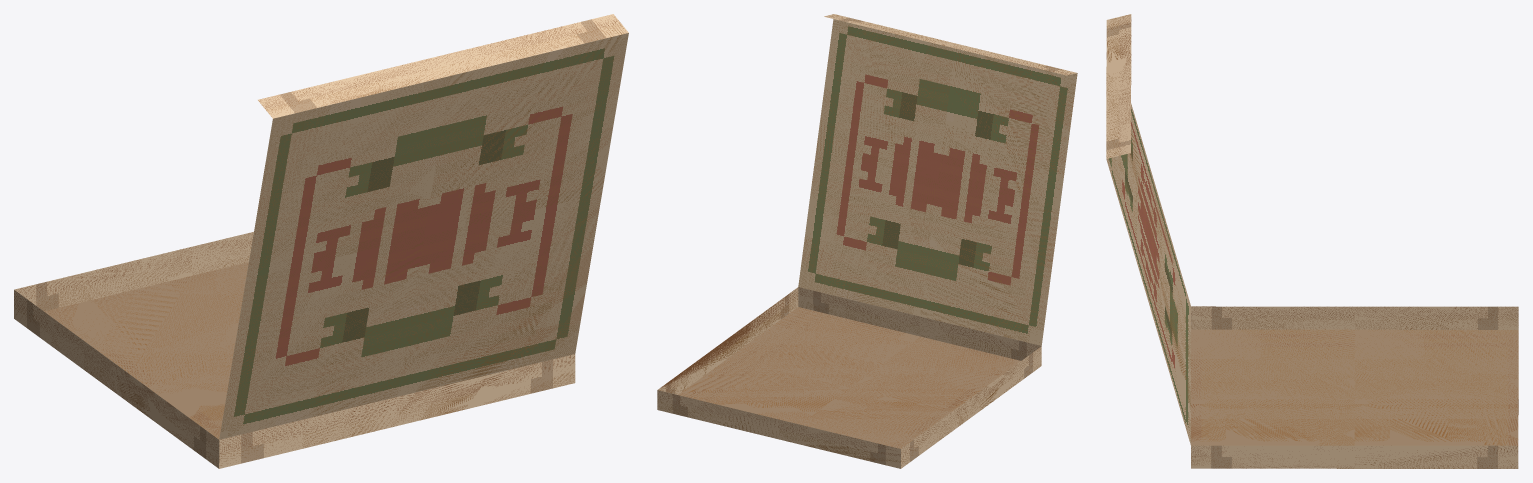
The model's file is pizza_box_open.fbx.
3 views of the same model, side by side, from view 1: azimuth 30°, elevation 25°; view 2: azimuth 150°, elevation 25°; view 3: azimuth 270°, elevation 25° (orthographic). The views are drawn at different scales.
Visible parts, largest first — view 1: PizzaBoxOpen; view 2: PizzaBoxOpen; view 3: PizzaBoxOpen.
Part boxes in pixels (x1=…): PizzaBoxOpen: x1=14, y1=14, x2=628, y2=468; PizzaBoxOpen: x1=657, y1=14, x2=1077, y2=468; PizzaBoxOpen: x1=1106, y1=14, x2=1518, y2=468.
Bounding box in the file's own units: 169 × 180 × 213.
Materials: 1 (1 with a texture image).
